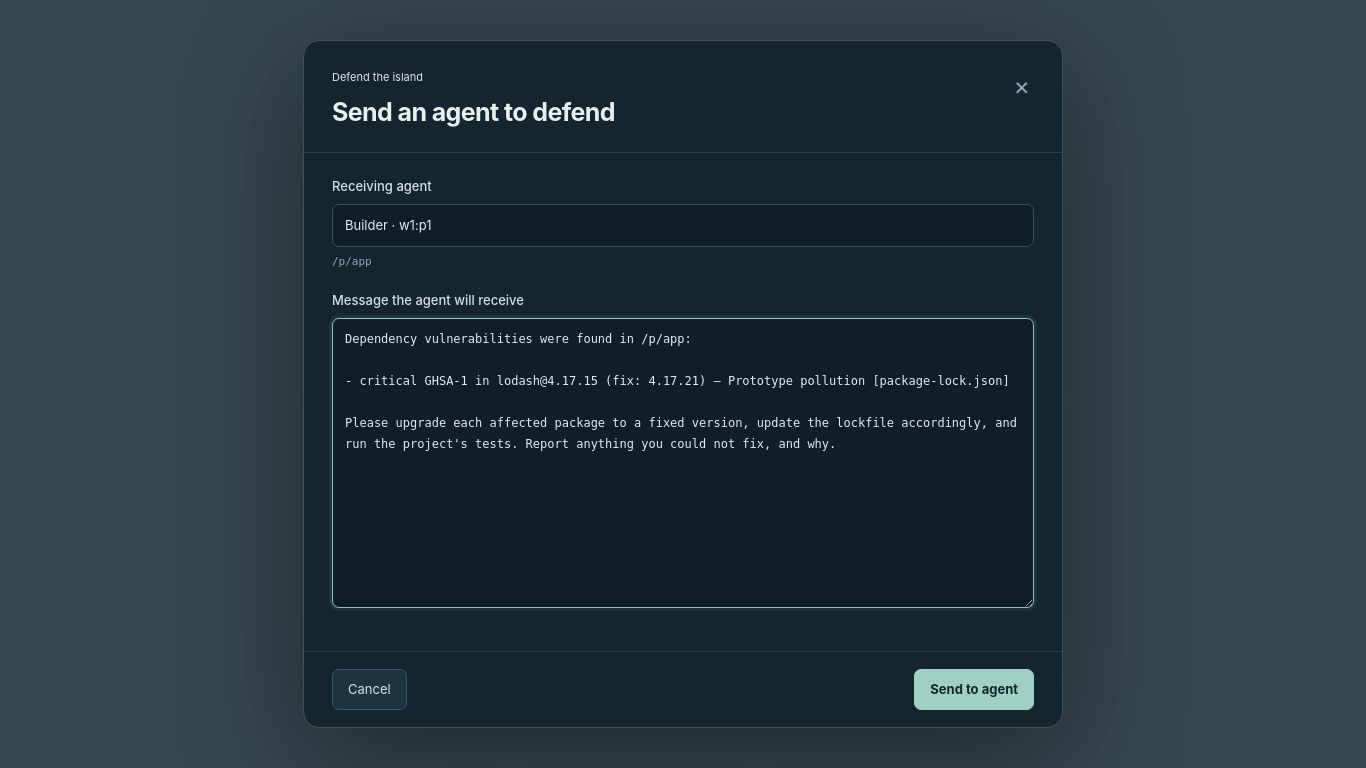
Test: keeps the user's edits when another agent (or the placeholder) is picked
This screenshot has width=1366, height=768.
Later steps or results of the test are not shown.
Select "Fixer · w1:p2" in the dropdown at (683, 225), box left=332, top=204, right=1034, bottom=247
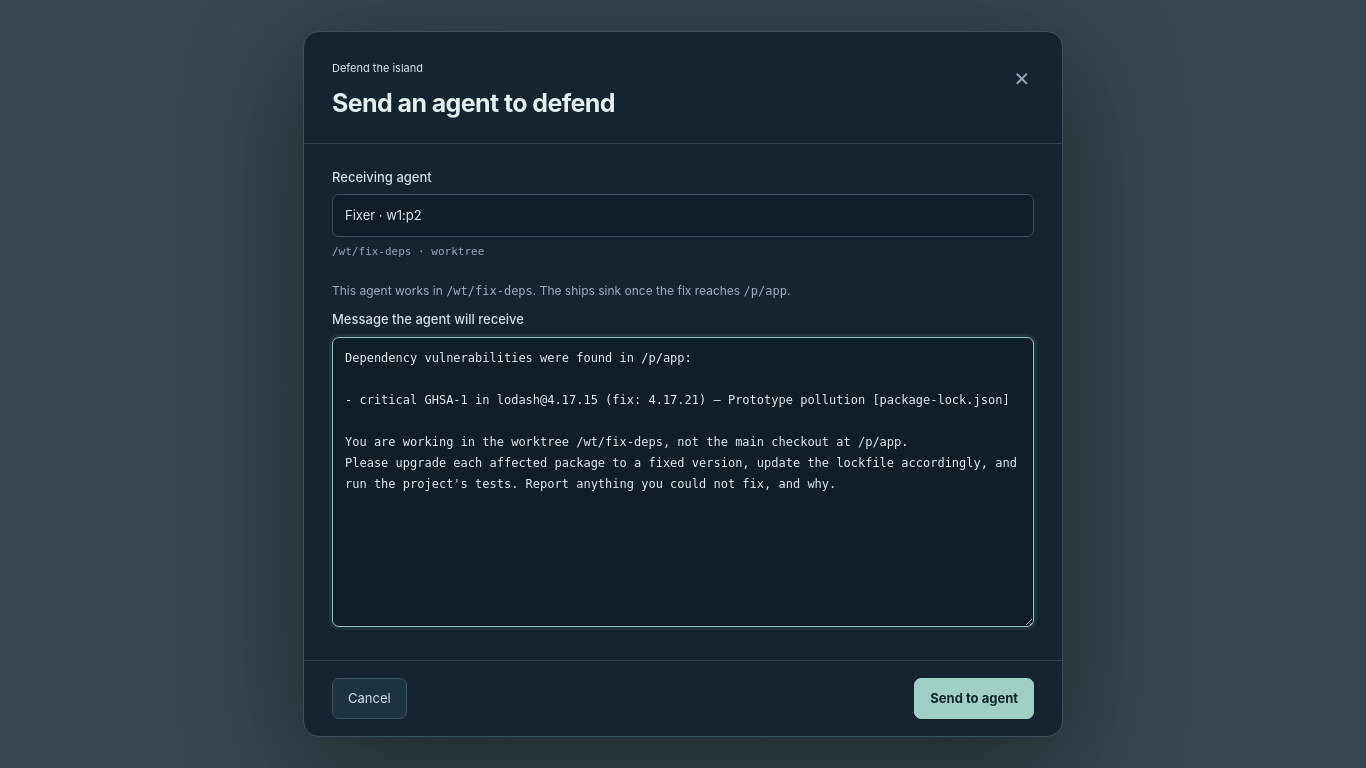
Select "Builder · w1:p1" in the dropdown at (683, 216), box left=332, top=194, right=1034, bottom=237
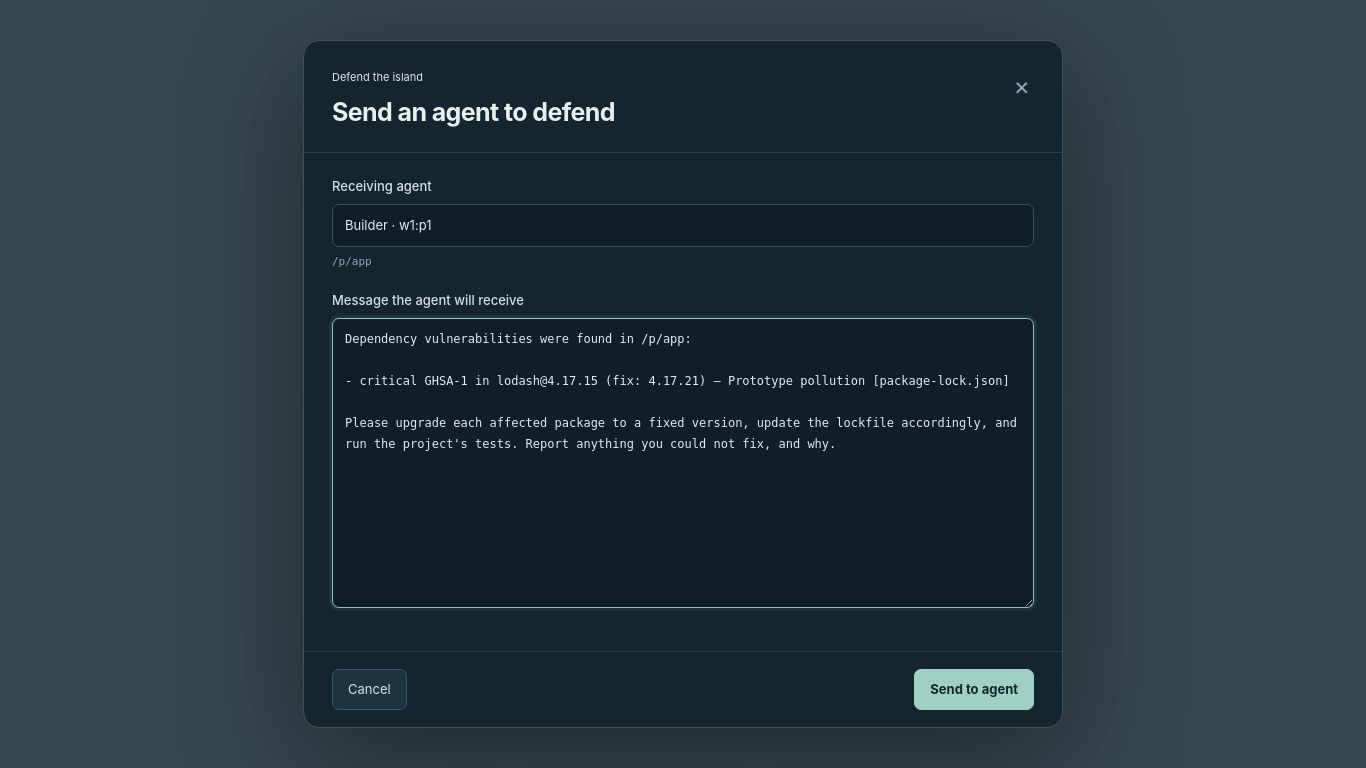
Replace the text in the text box labelled "Message the agent will receive" with "My own orders" at (683, 463), box left=332, top=318, right=1034, bottom=608
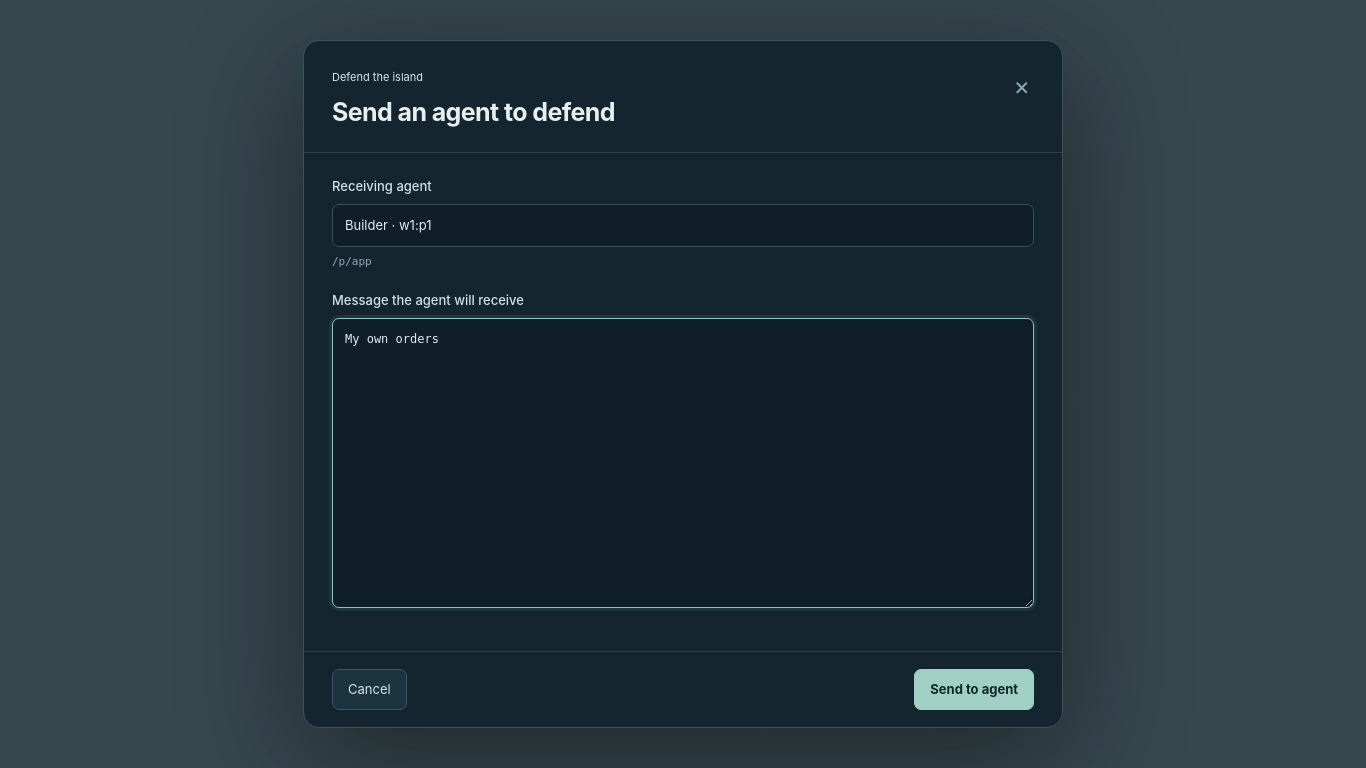
Select "Choose an agent" in the dropdown at (683, 225), box left=332, top=204, right=1034, bottom=247
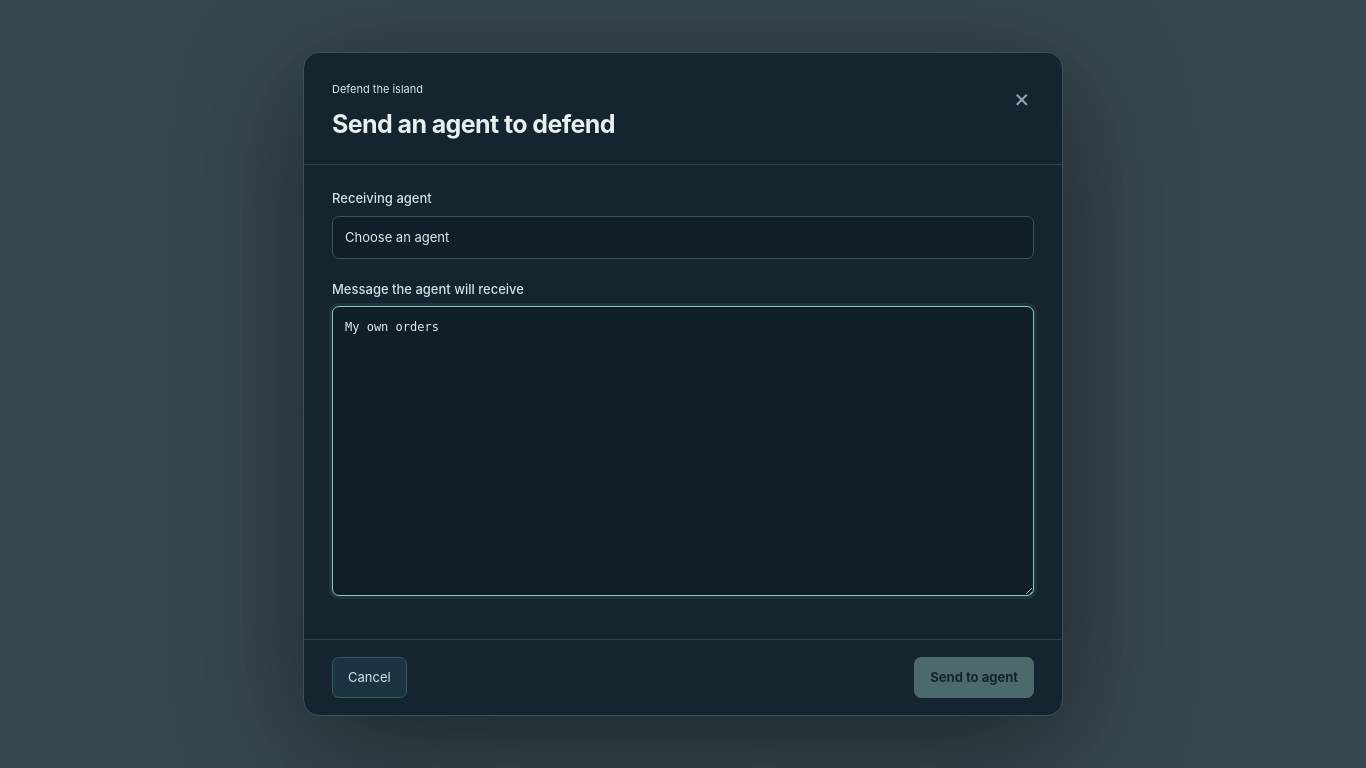
Select "Fixer · w1:p2" in the dropdown at (683, 237), box left=332, top=216, right=1034, bottom=258
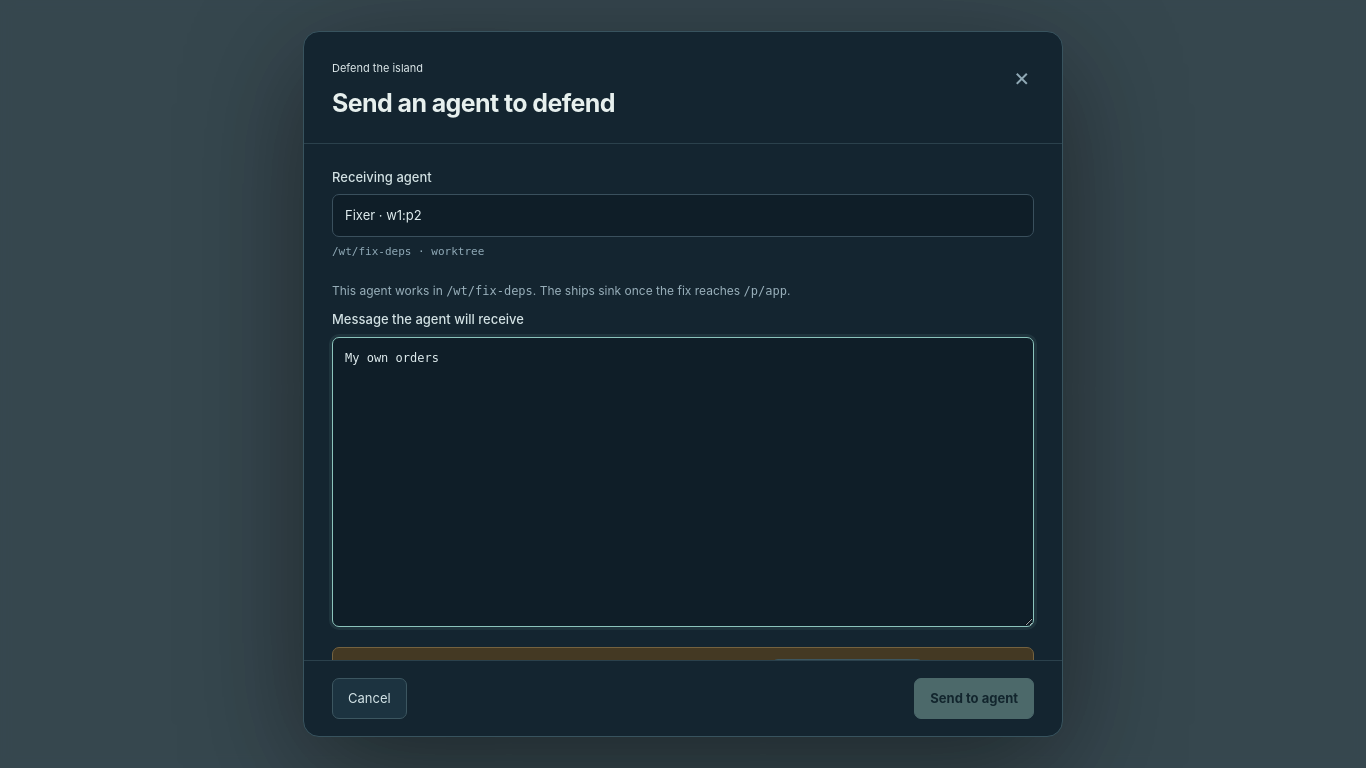
Expected: the button "Send to agent" is disabled, left=914, top=678, right=1034, bottom=719
